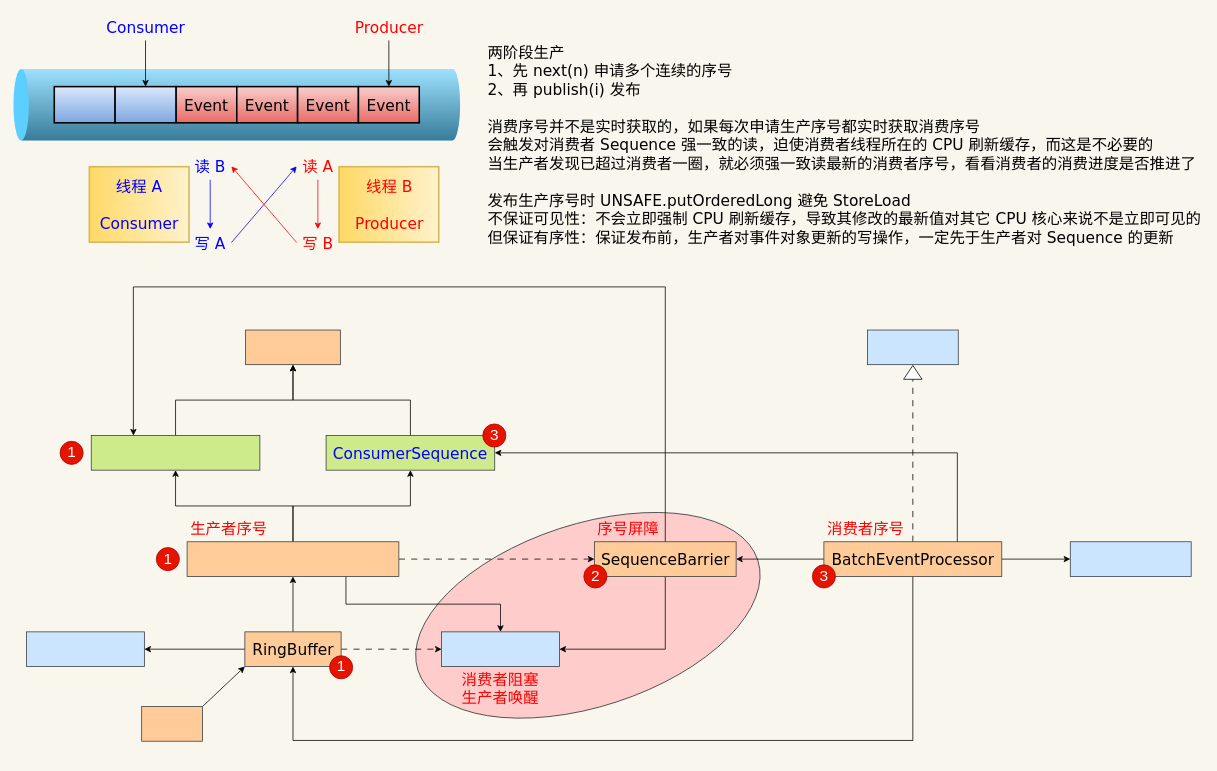
Image size: 1217x771. Some labels were removed from this diagram. Here are the shapes that lost their labels. From the top down, the centre of each, then its label:
At point 292,347: "Sequence".
At point 912,347: "Runnable".
At point 175,452: "ProducerSequence".
At point 292,558: "SingleProducerSequencer".
At point 1130,558: "EventHandler".
At point 85,649: "EventFactory".
At point 500,649: "WaitStrategy".
At point 172,723: "Main".
